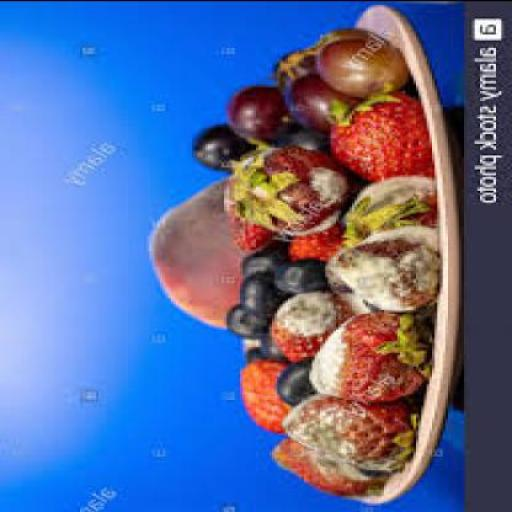biodegradable: (146, 172, 240, 326), (218, 137, 346, 231), (306, 309, 430, 400), (322, 80, 432, 180), (326, 223, 438, 309), (278, 391, 410, 461), (266, 432, 378, 496), (336, 170, 434, 242), (266, 288, 346, 358), (317, 37, 403, 93), (286, 74, 354, 133), (226, 82, 290, 144), (240, 358, 294, 430), (222, 172, 272, 248), (190, 124, 254, 168), (315, 24, 389, 56), (285, 219, 344, 256), (275, 354, 315, 402), (237, 270, 282, 312), (271, 125, 328, 157), (272, 256, 320, 288), (221, 301, 266, 334), (274, 49, 309, 86), (240, 242, 279, 274), (359, 293, 416, 313), (253, 328, 280, 358), (320, 268, 347, 291), (352, 459, 391, 473), (242, 346, 256, 362)
